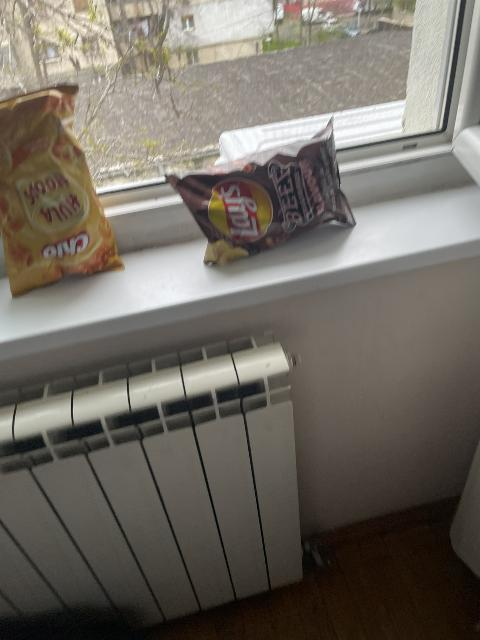Chio Hula Hoops Cheese 70g: (2, 85, 126, 298)
Lays Beef Grilled Ribs 125g: (165, 115, 358, 266)
